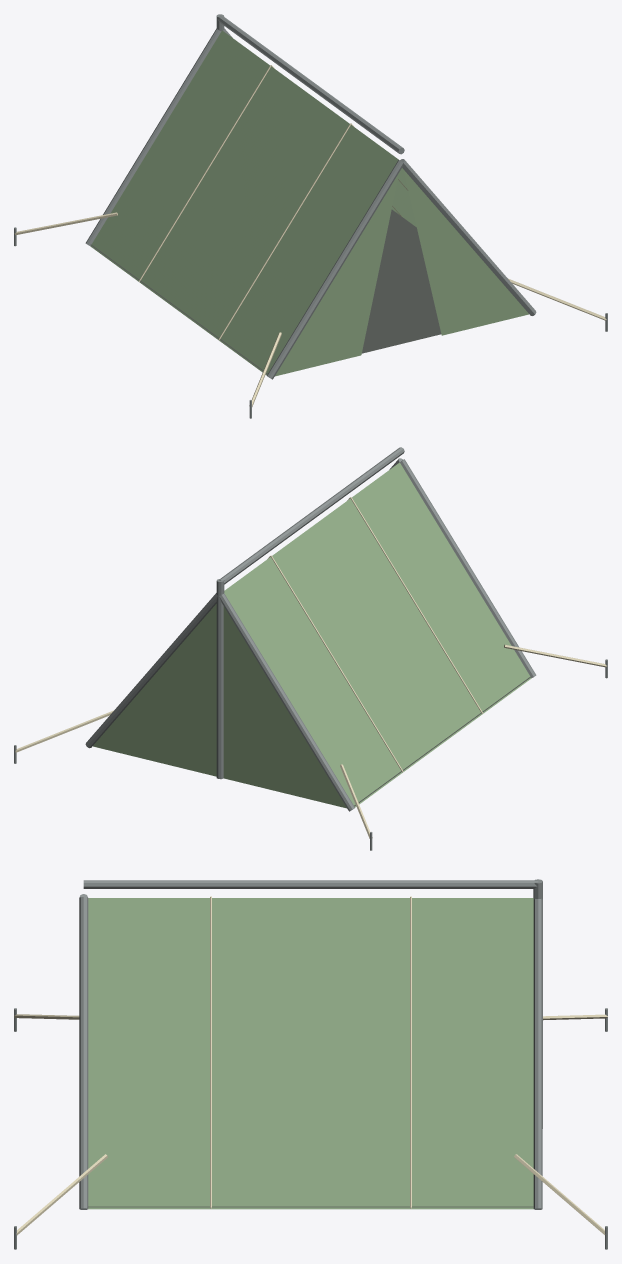
Rendered from Tent_A_Small.fbx.
The picture shows the model from 3 angles, top to bottom: view 1: azimuth 30°, elevation 25°; view 2: azimuth 150°, elevation 25°; view 3: azimuth 270°, elevation 25°; orthographic projection. The views are drawn at different scales.
Parts seen in each view (by area): view 1: Tent_A_Small_Geometry; view 2: Tent_A_Small_Geometry; view 3: Tent_A_Small_Geometry.
Boxes of the visible parts, left/top/right/bottom form: Tent_A_Small_Geometry: left=14, top=14, right=607, bottom=418; Tent_A_Small_Geometry: left=14, top=447, right=607, bottom=850; Tent_A_Small_Geometry: left=14, top=879, right=607, bottom=1249.
Bounding box in the file's own units: 286 × 158 × 327.
